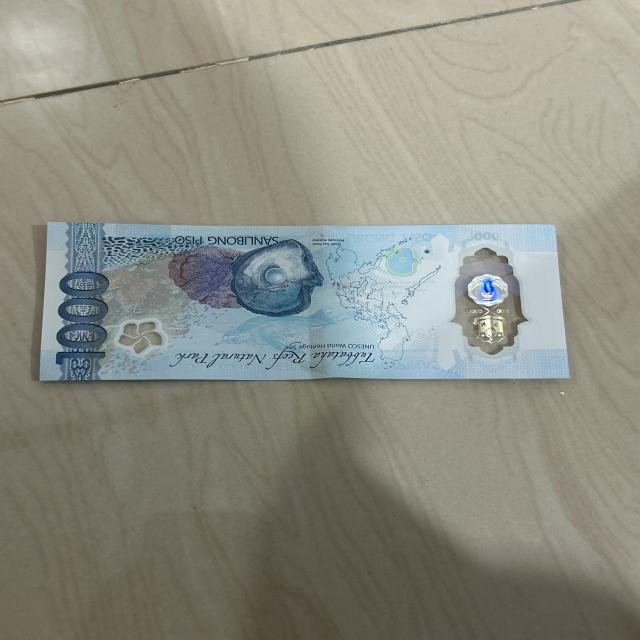clear_window: (448, 246, 535, 356)
sampaguita: (116, 316, 169, 352)
